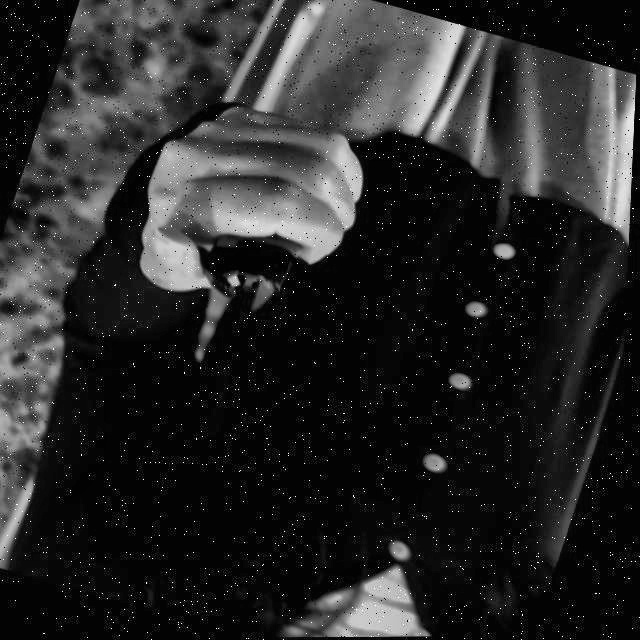Fire: (244, 277, 282, 321)
